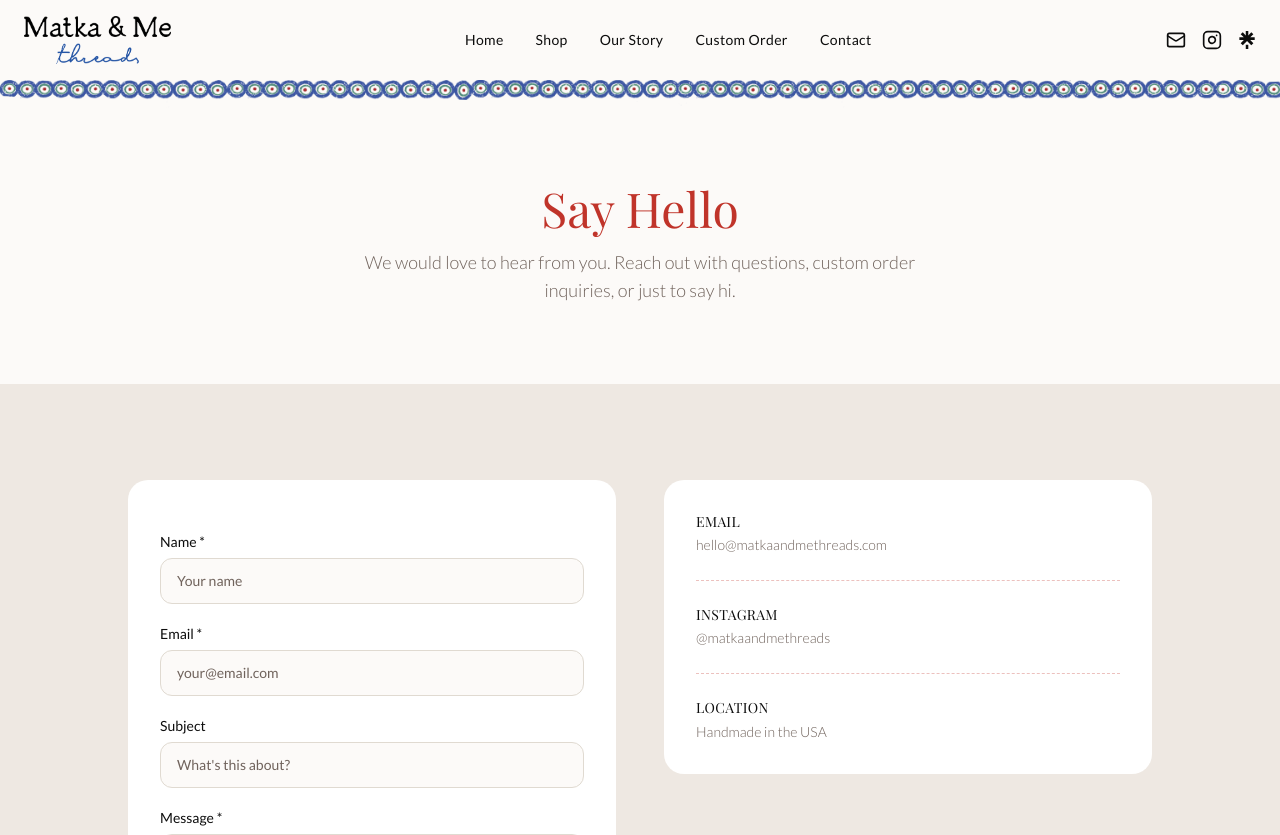
Test: public site without Supabase › Contact form submits via Formspree and shows success
Type "Ann" into the field labelled "Name *".
click(372, 581); type("Ann")  # box [160,558,584,604]
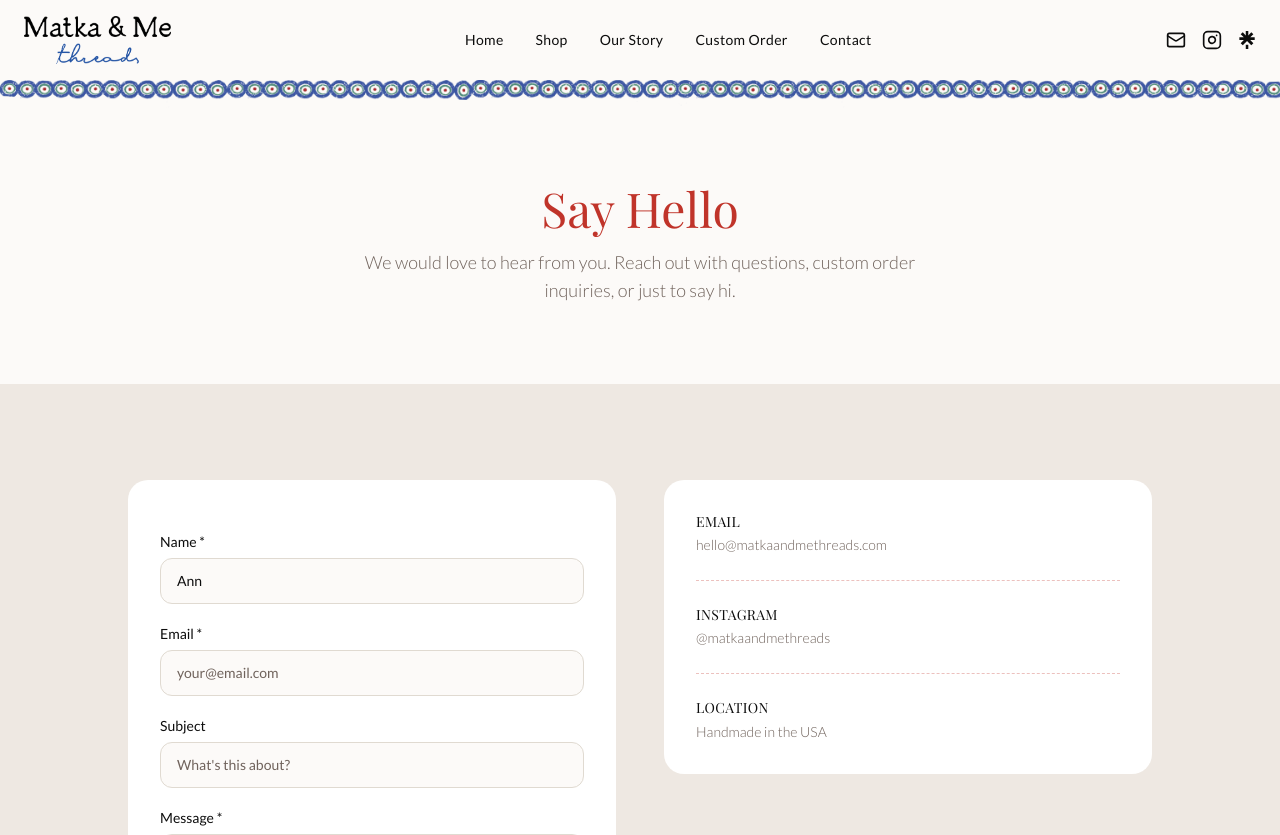
Type "ann@example.com" into the field labelled "Email *".
click(372, 673); type("ann@example.com")  # box [160,650,584,696]
(page scrolled)
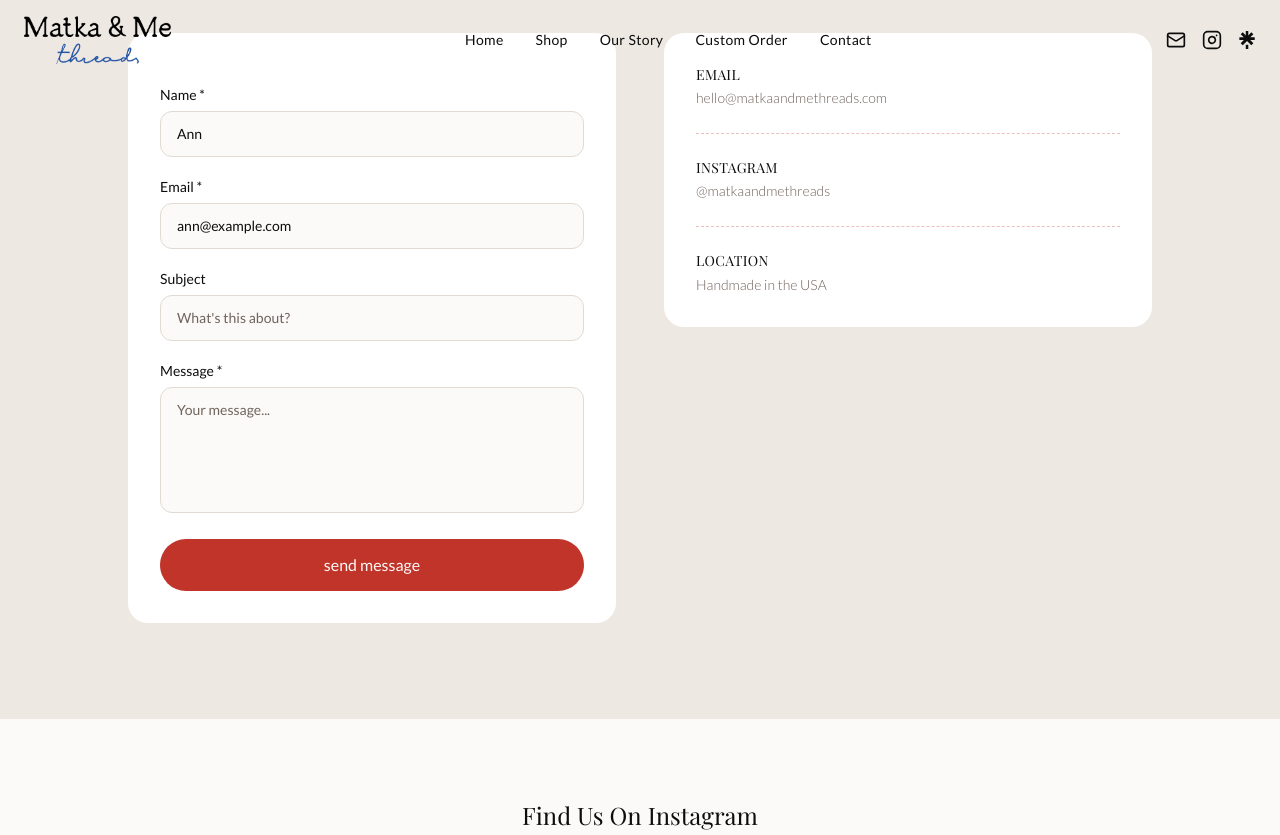
Type "Hello!" into the text box labelled "Message *".
click(372, 450); type("Hello!")  # box [160,387,584,513]
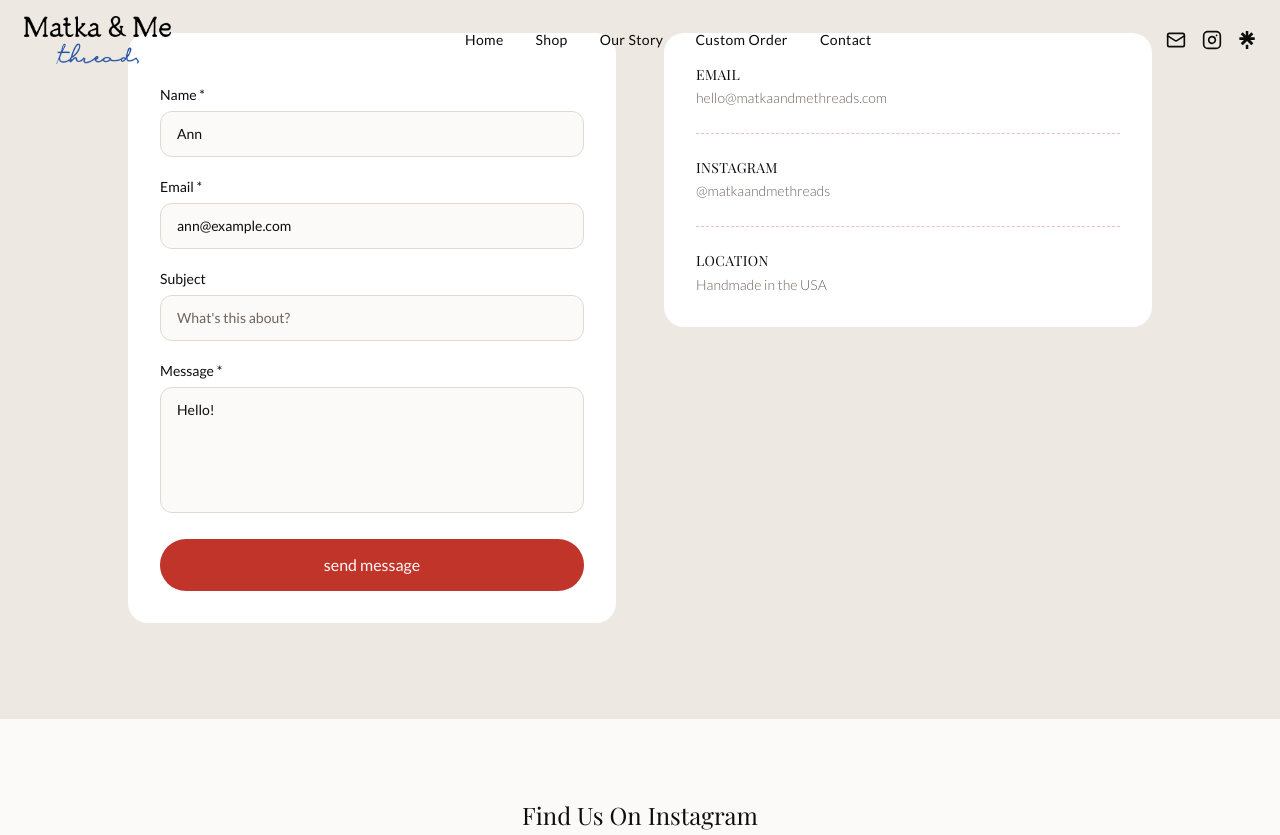
Click the button "send message".
click(372, 565)  # box [160,539,584,591]
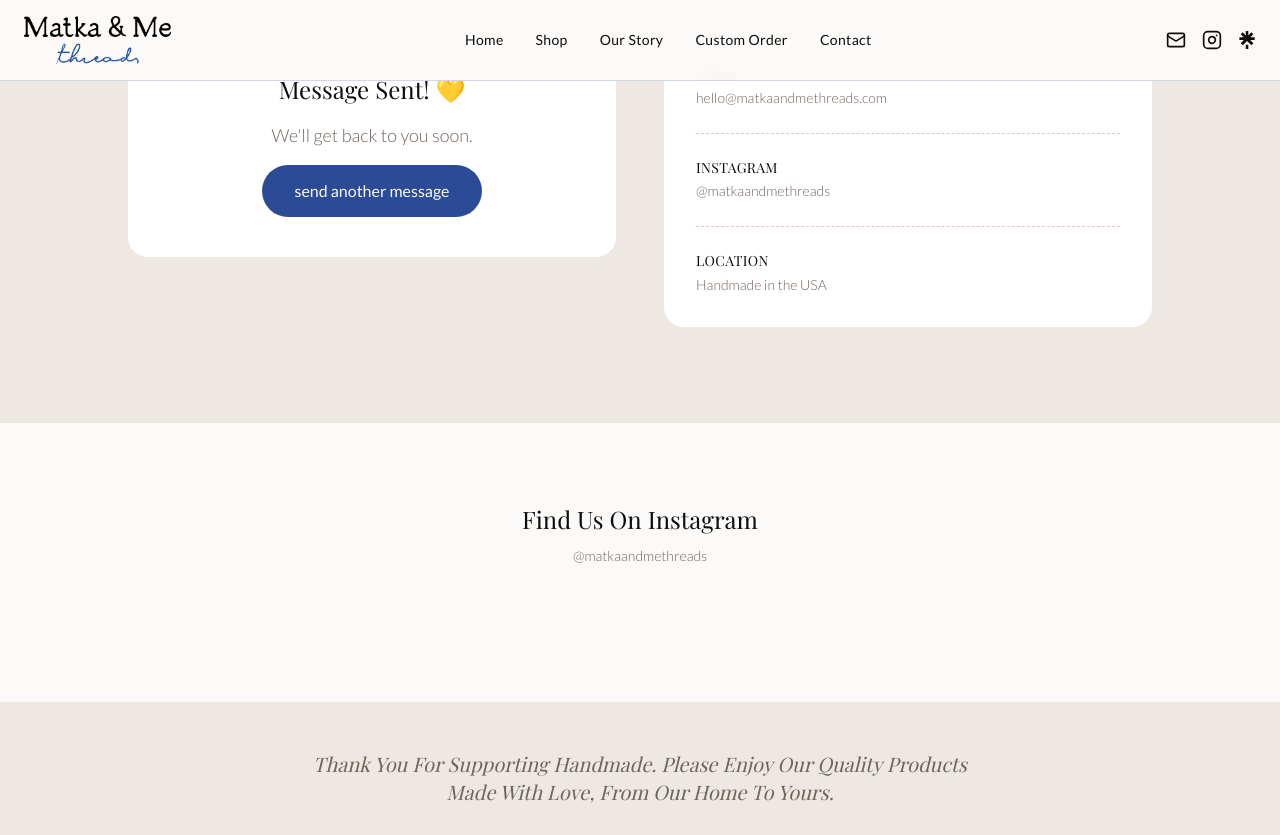
Now the heading "Message Sent! 💛" is shown, box [279,73,465,105]
